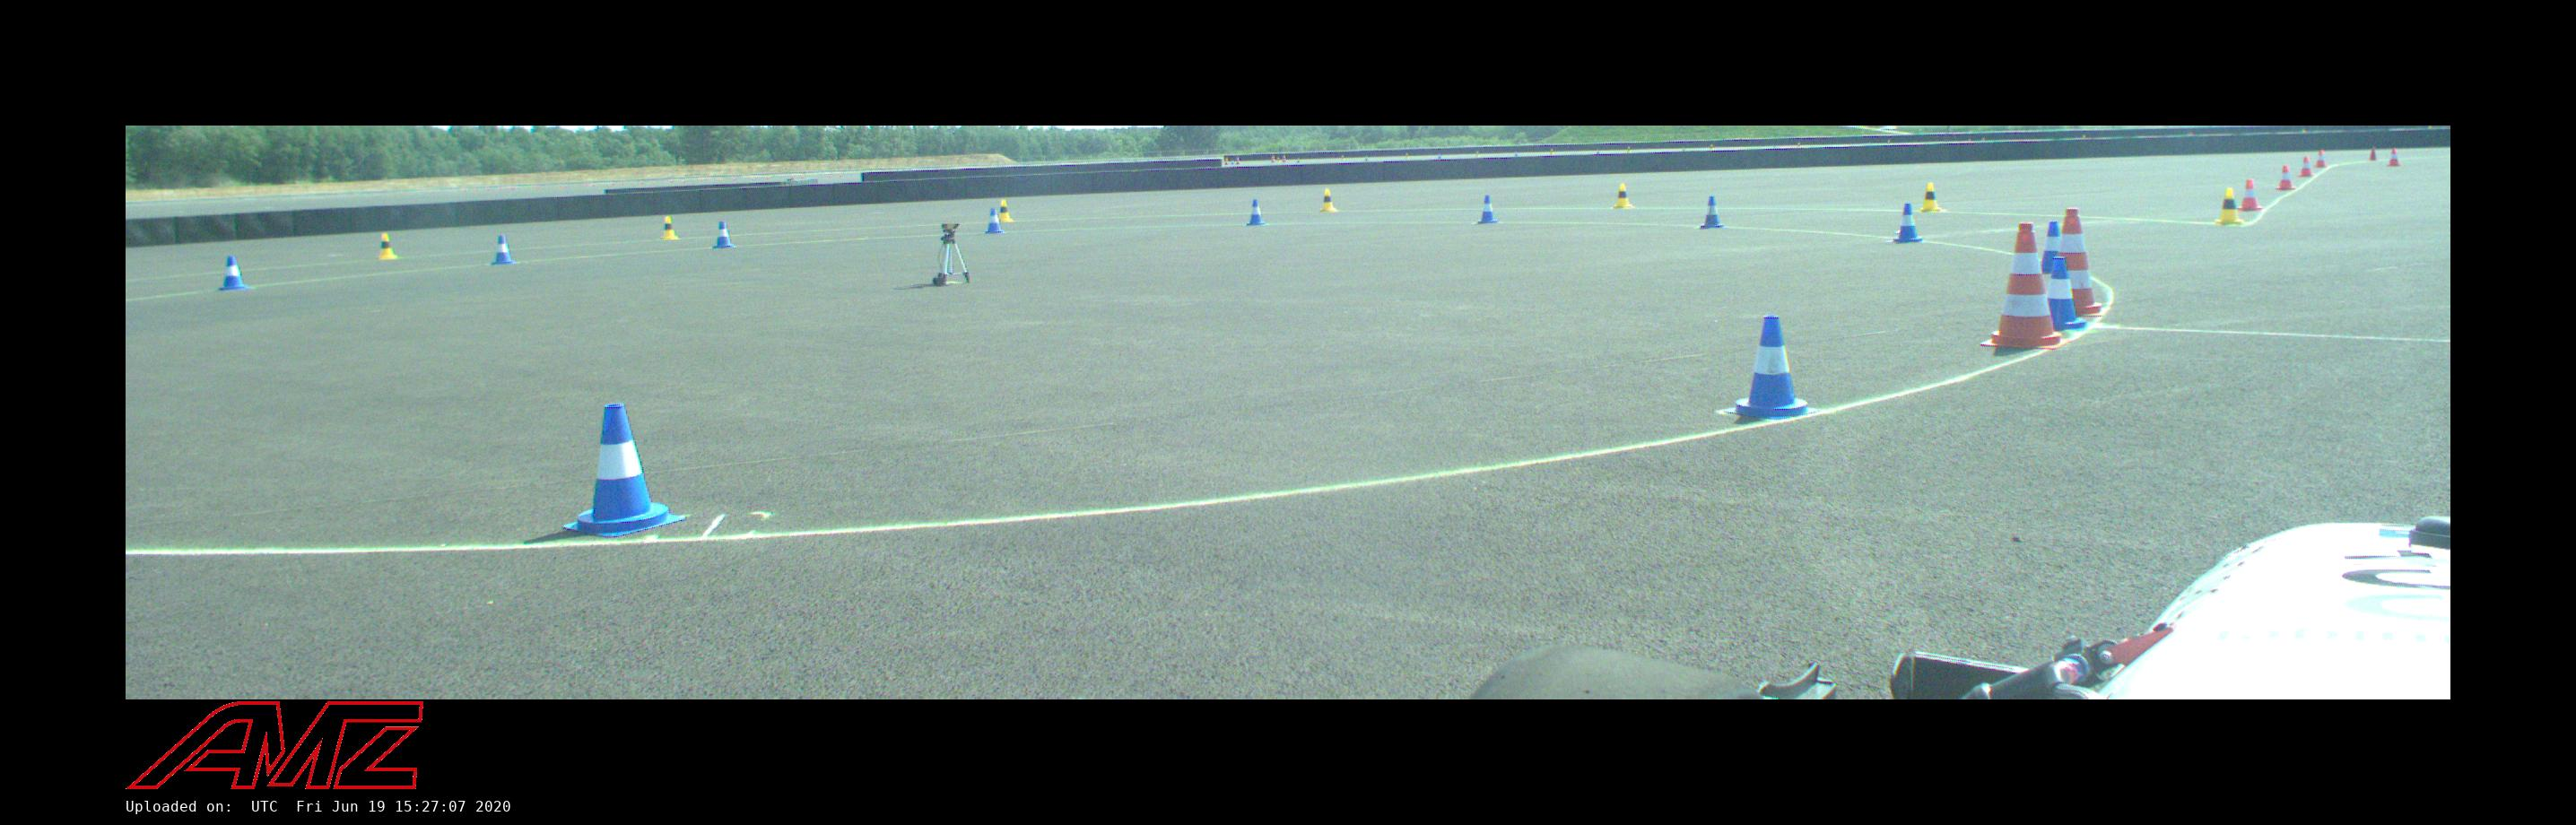blue_cone: (563, 403, 687, 536), (1722, 317, 1820, 421), (2040, 256, 2090, 332), (2036, 220, 2073, 273), (1886, 202, 1929, 243), (215, 255, 250, 291), (1695, 196, 1728, 228), (490, 235, 516, 263), (1475, 194, 1500, 224), (1245, 200, 1270, 227), (711, 222, 736, 248), (984, 209, 1005, 233)
large_orange_cone: (1983, 222, 2072, 350), (2040, 209, 2105, 316)
orange_cone: (2236, 179, 2262, 210), (2275, 166, 2295, 191), (2312, 151, 2328, 169), (2297, 158, 2312, 177), (2385, 150, 2399, 166)
yellow_cone: (2215, 186, 2246, 225), (1916, 182, 1947, 212), (1612, 182, 1635, 209), (376, 233, 398, 260), (659, 217, 679, 240), (1318, 189, 1337, 212), (994, 199, 1014, 222)
